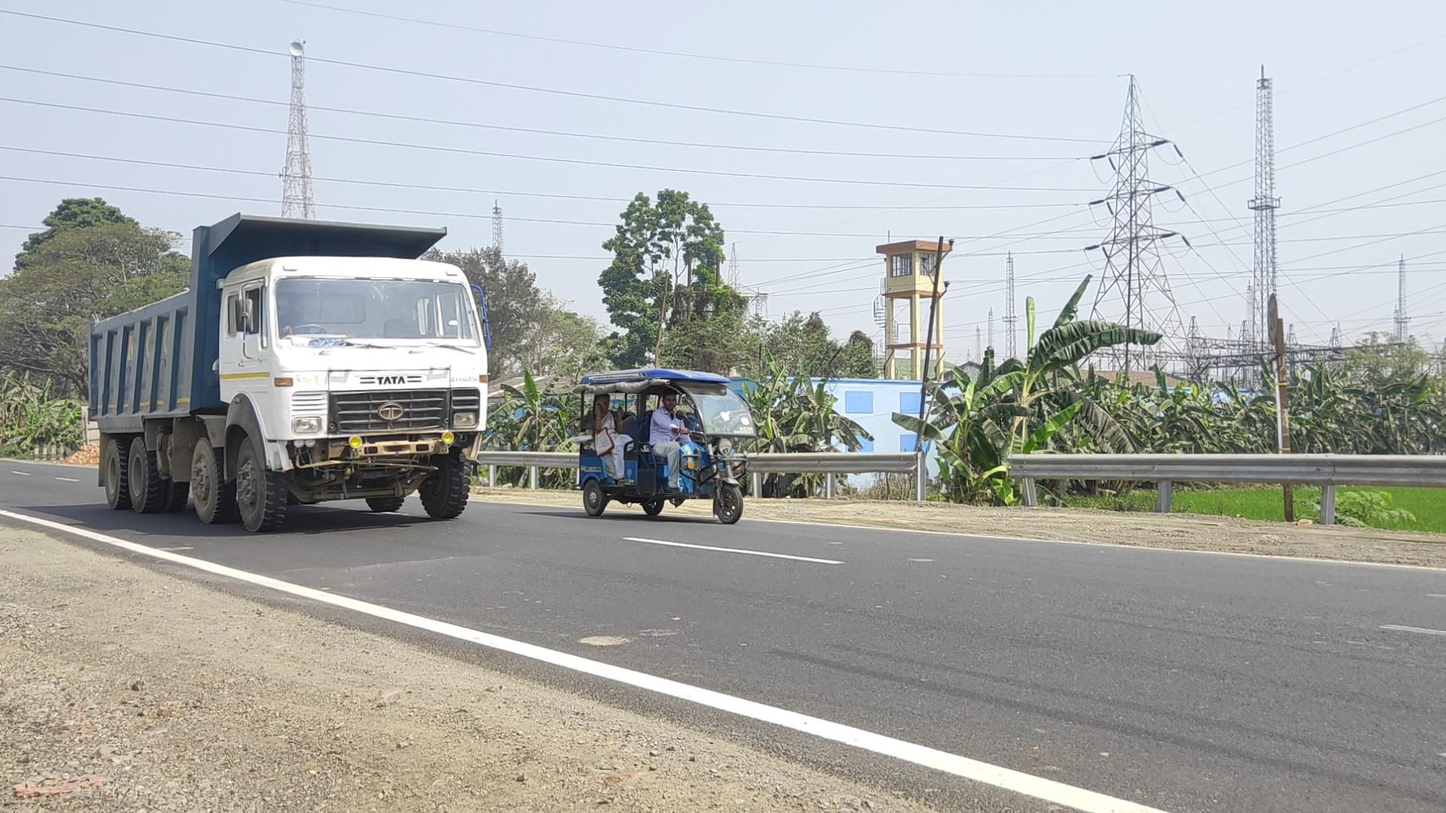Auto: (576, 368, 759, 524)
truck: (88, 212, 491, 534)
